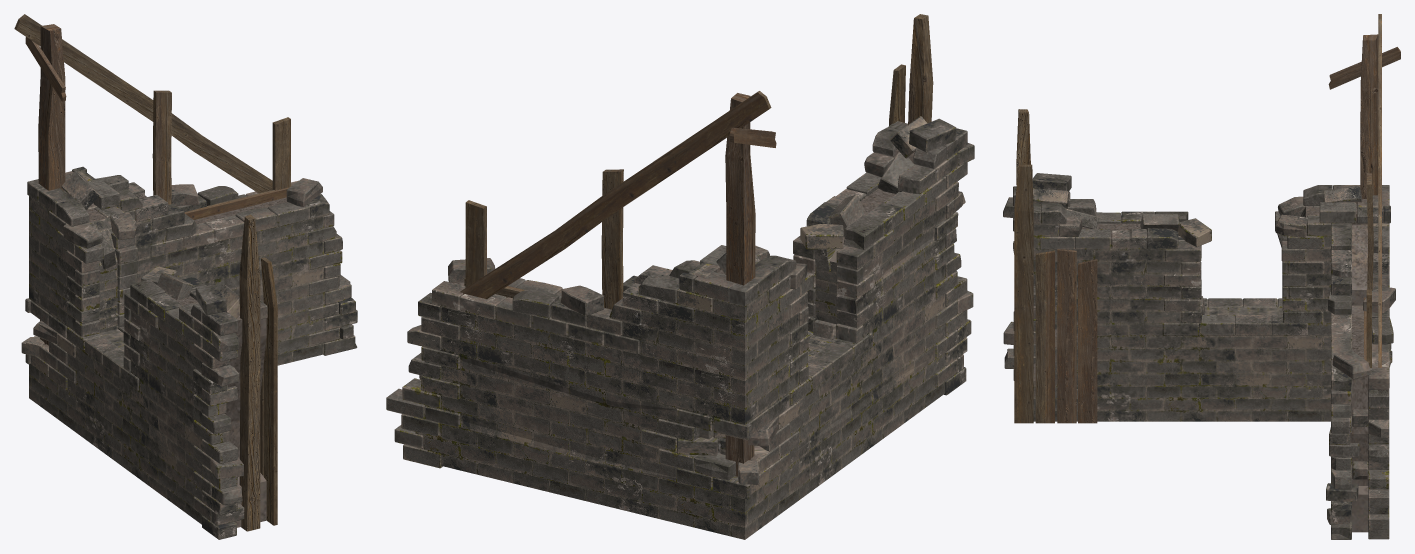
Rendered from SM_ASY_RuinsWall_CornerRight_01.fbx.
3 views of the same model, side by side, from view 1: azimuth 30°, elevation 25°; view 2: azimuth 150°, elevation 25°; view 3: azimuth 270°, elevation 25° (orthographic). The views are drawn at different scales.
Visible parts, largest first — view 1: SM_ASY_RuinsWall_CornerRight_01.mo; view 2: SM_ASY_RuinsWall_CornerRight_01.mo; view 3: SM_ASY_RuinsWall_CornerRight_01.mo.
Part boxes in pixels (x1,y1,x2,y2): SM_ASY_RuinsWall_CornerRight_01.mo: (14,14,357,539); SM_ASY_RuinsWall_CornerRight_01.mo: (386,14,974,539); SM_ASY_RuinsWall_CornerRight_01.mo: (1003,14,1400,539).
Bounding box in the file's own units: 281 × 319 × 302.
